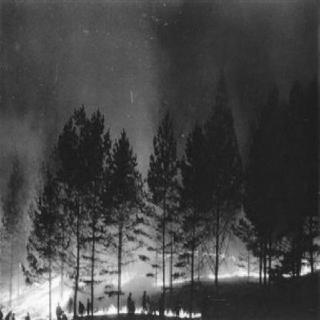Fire: (20, 212, 317, 318)
